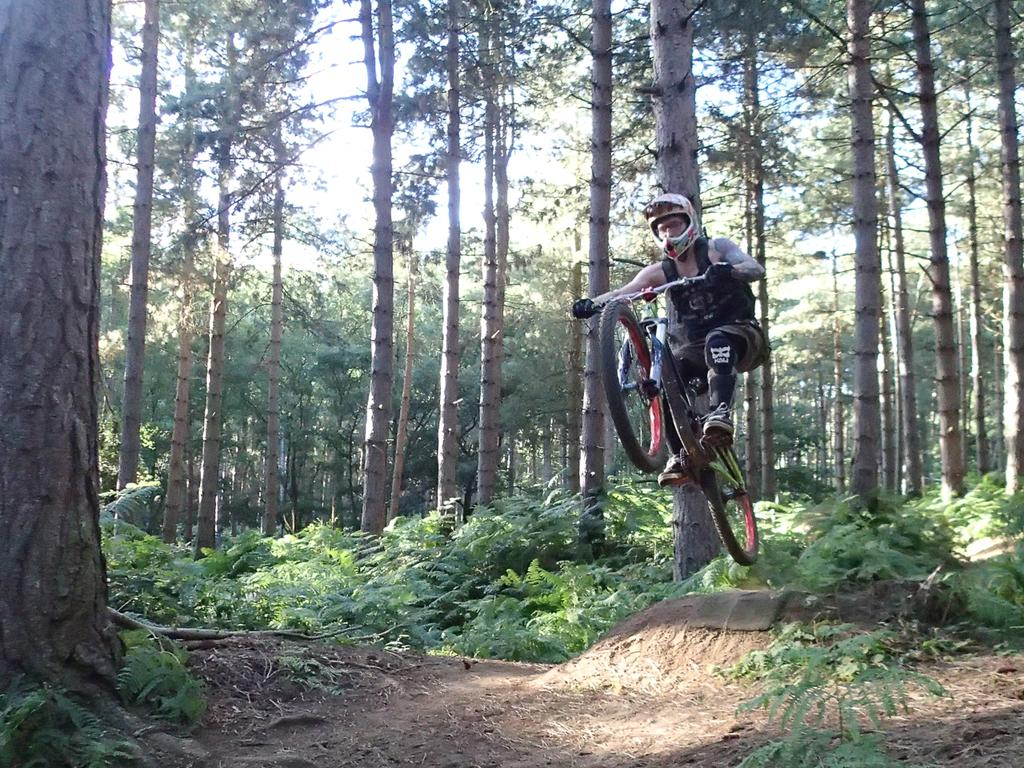helmet: (641, 193, 700, 260)
